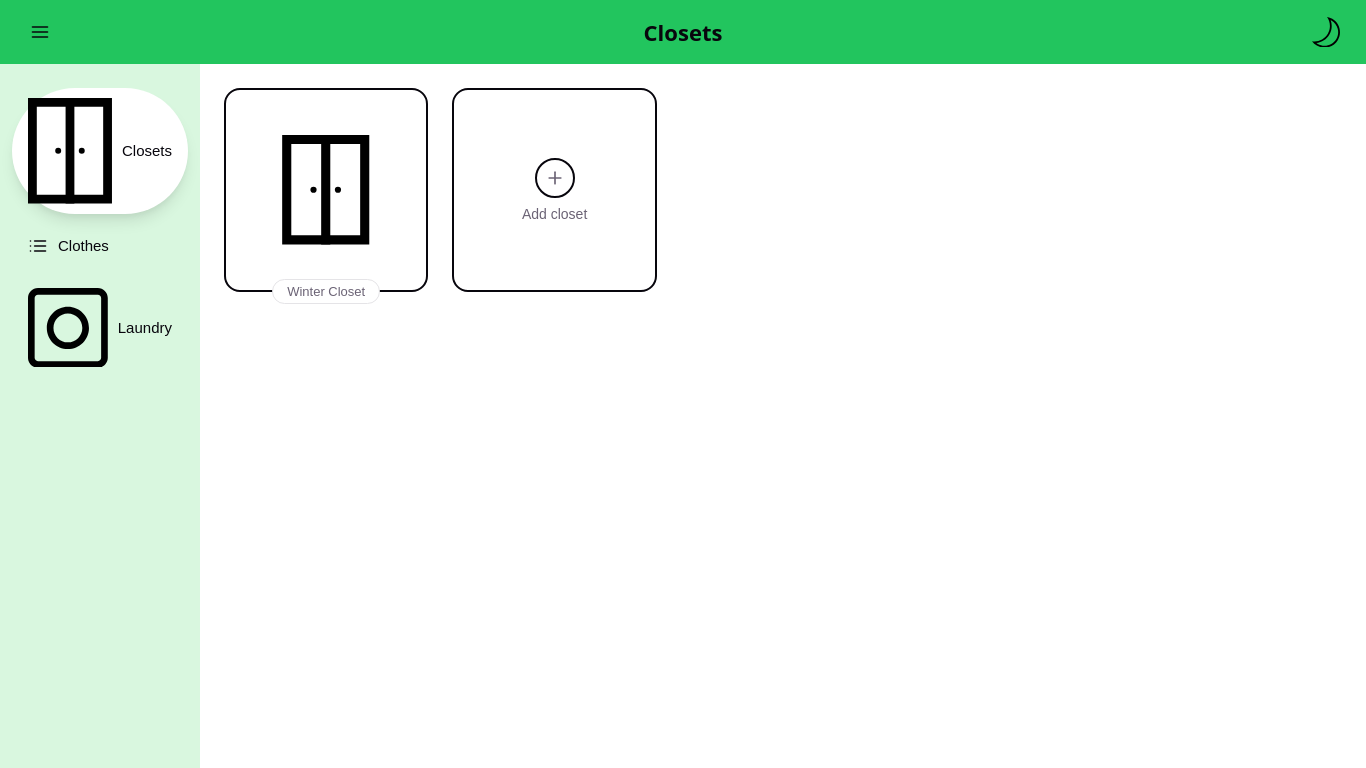
App navigation › Clothes view lists all items with no closet filter, regardless of active closet
Click the button "Clothes": (100, 246) [12, 226, 188, 266]
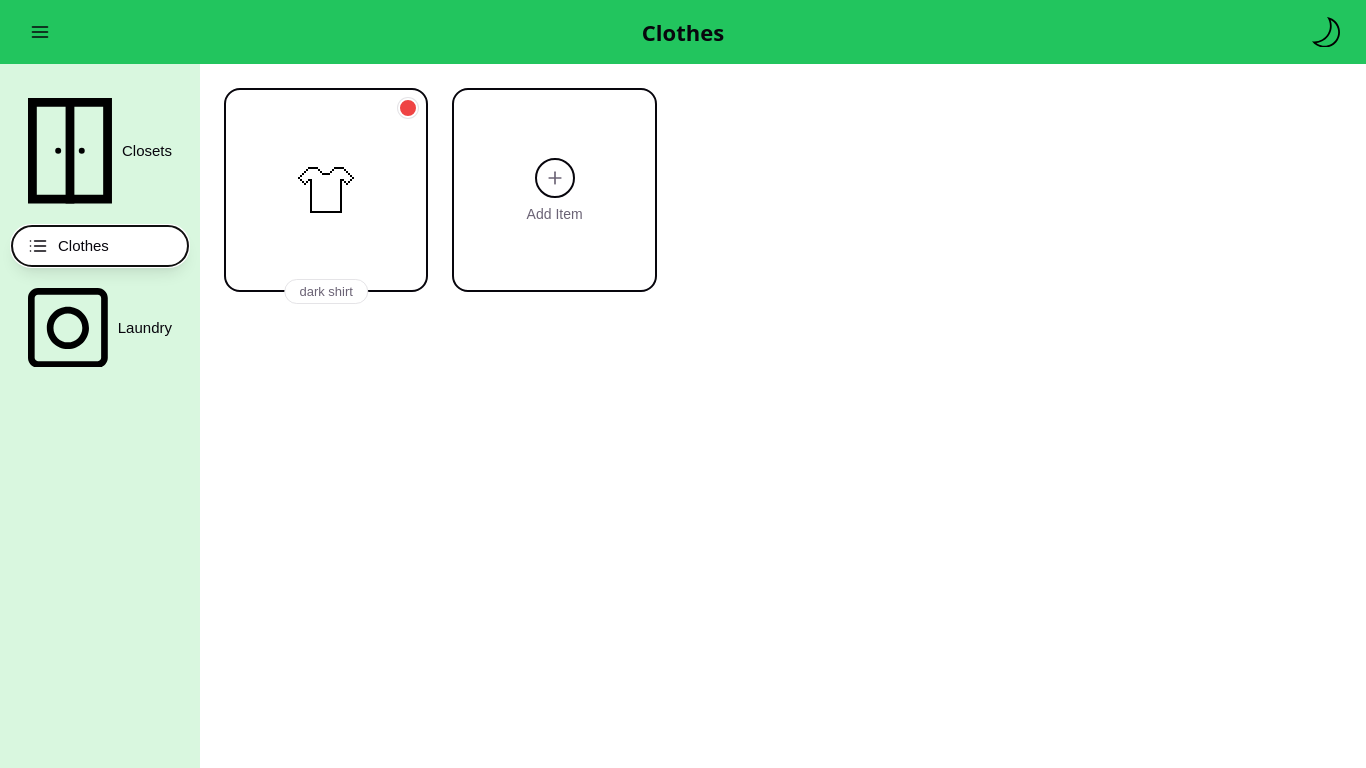
Result: the heading "Clothes" is shown at [642, 17, 724, 47]
